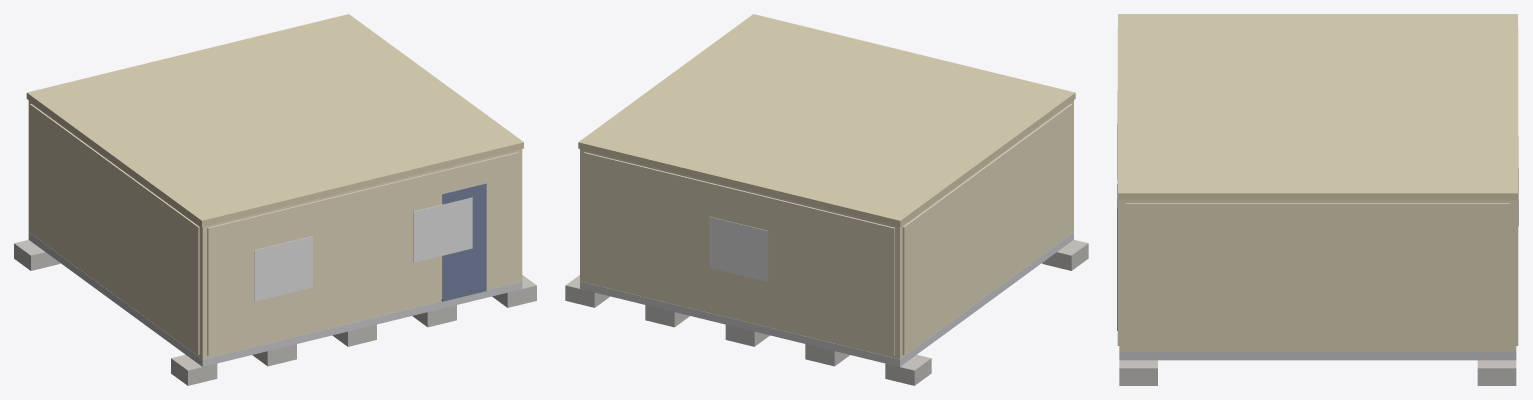
File: Studio-20-Base-MicroGrainYellowSlate-LOD3.glb
3 renders of one model, left to right at view 1: azimuth 30°, elevation 25°; view 2: azimuth 150°, elevation 25°; view 3: azimuth 270°, elevation 25°, orthographic. The views are drawn at different scales.
Parts seen in each view (by area): view 1: RoofMain, ExteriorPanelsStandard, WindowsStandard, FoundationBlocks, ExteriorShell, BaseFrame, EntryDoor; view 2: ExteriorPanelsStandard, RoofMain, FoundationBlocks, BaseFrame, ExteriorShell, WindowsStandard; view 3: RoofMain, ExteriorPanelsStandard, ExteriorShell, BaseFrame, FoundationBlocks.
Boxes of the visible parts, x1,y1,x2,y2 form: RoofMain: (26,14,523,226); ExteriorPanelsStandard: (30,104,518,355); WindowsStandard: (254,197,472,301); FoundationBlocks: (14,240,536,385); ExteriorShell: (28,100,522,359); BaseFrame: (28,232,522,366); EntryDoor: (441,183,486,301); ExteriorPanelsStandard: (584,104,1072,355); RoofMain: (578,14,1075,226); FoundationBlocks: (565,240,1088,385); BaseFrame: (580,232,1073,366); ExteriorShell: (580,100,1073,359); WindowsStandard: (709,216,768,281); RoofMain: (1118,14,1517,200); ExteriorPanelsStandard: (1117,28,1518,349); ExteriorShell: (1119,200,1516,351); BaseFrame: (1119,351,1516,360); FoundationBlocks: (1119,360,1516,385).
Bounding box in the file's own units: 7.14 × 3.17 × 6.24.
